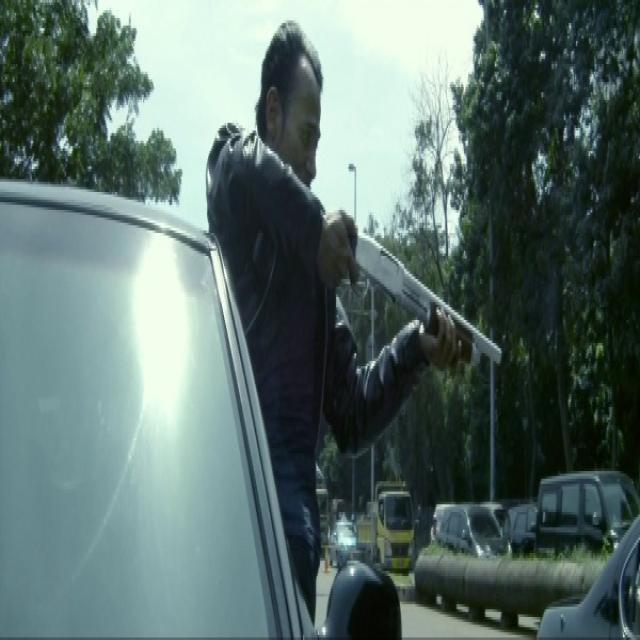rifle: (351, 228, 507, 381)
